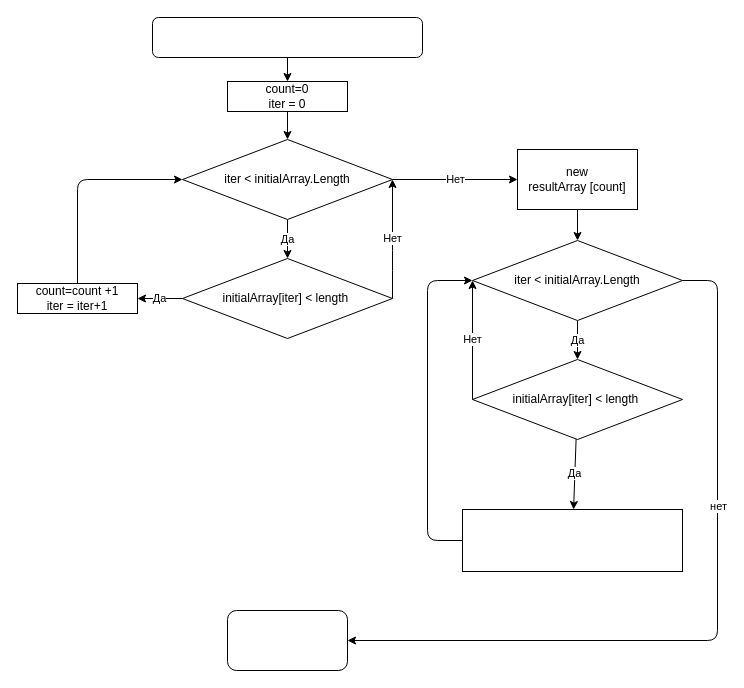
Image size: 744x688. Some labels were removed from this diagram. The centre of each missing label's shape, as x and y in pixels:
"GetShortsArray(initialArray, length)" goes at point 287,37.
"resultArray[count] = initialArray[iter] count=count +1 iter = iter+1" goes at point 572,540.
"return resultArray" goes at point 287,640.
